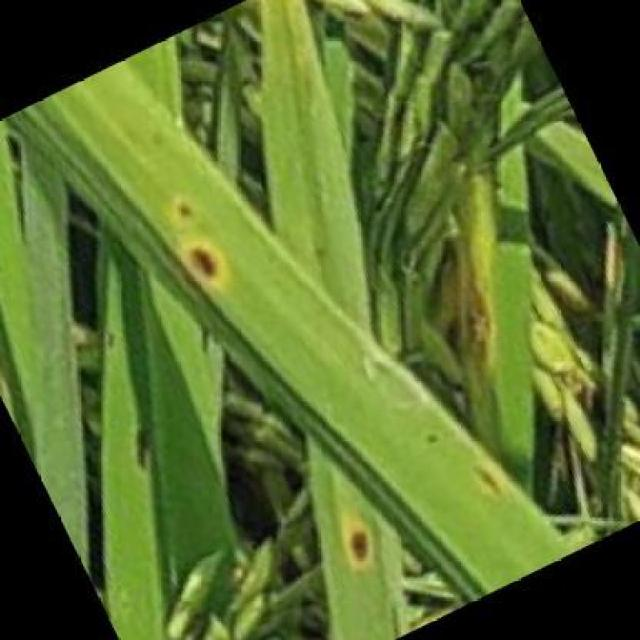Leaf_Blast: (162, 224, 244, 311), (333, 508, 389, 581), (457, 450, 520, 513), (122, 413, 166, 482), (158, 184, 210, 233)
